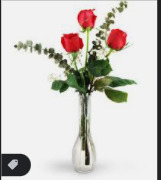RedRose: (108, 25, 130, 54), (59, 30, 83, 52), (75, 6, 96, 31)
